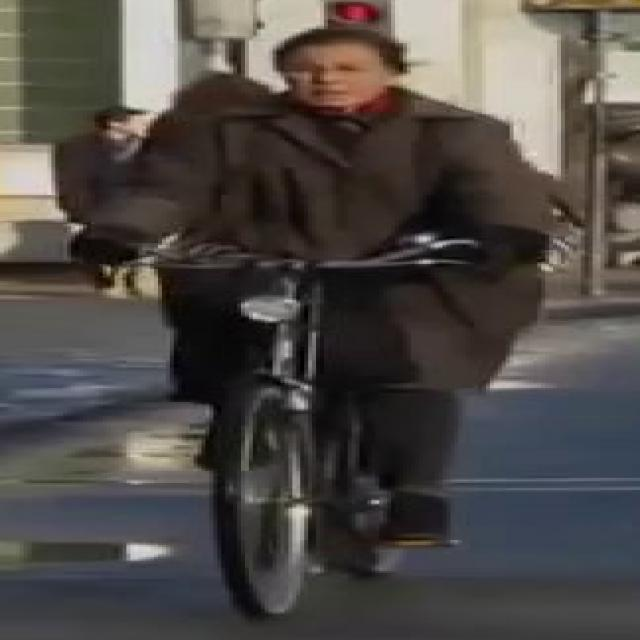car: (30, 205, 580, 622)
